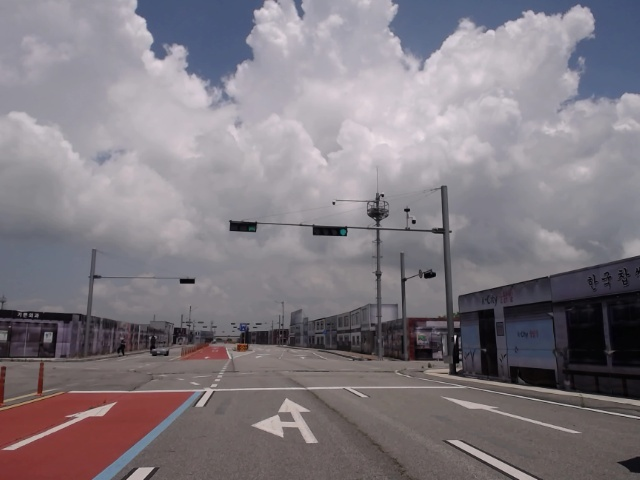straight_green_4: (311, 226, 348, 237)
